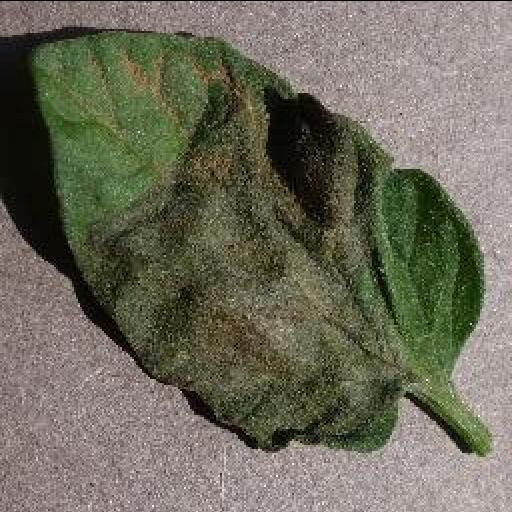disease_tomato: (28, 26, 484, 454)
